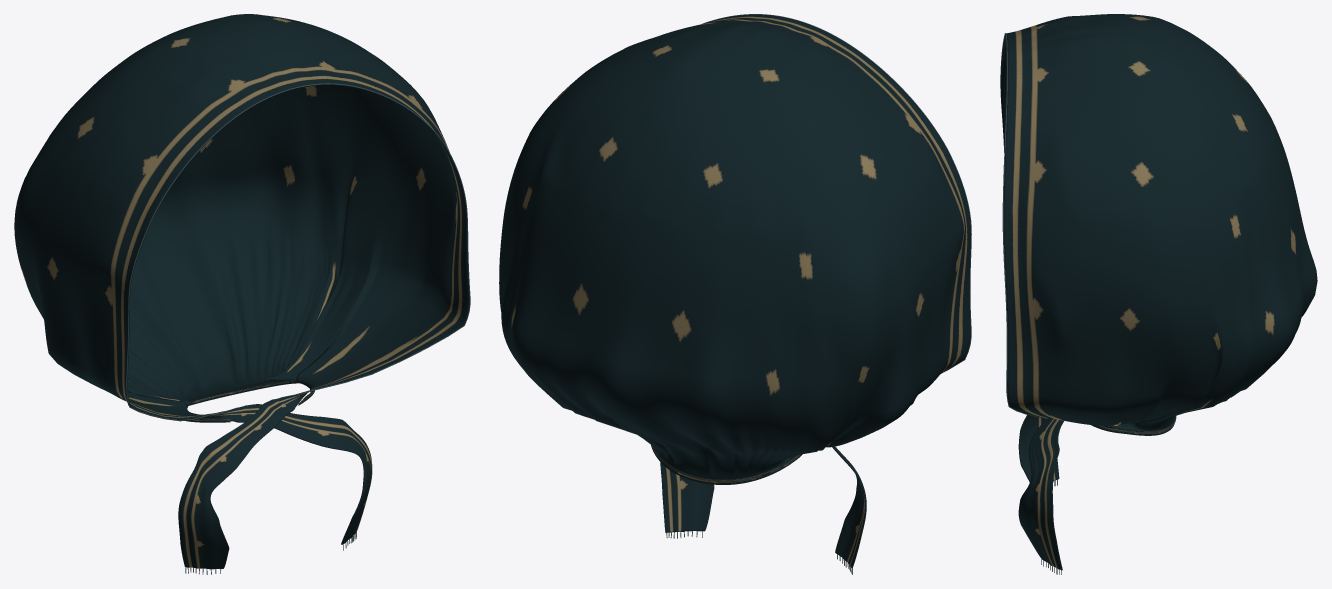
Rendered from Feminine-bob-sweatshirt-pashmina249-headgear.glb.
3 renders of one model, left to right at view 1: azimuth 30°, elevation 25°; view 2: azimuth 150°, elevation 25°; view 3: azimuth 270°, elevation 25°, orthographic. The views are drawn at different scales.
Visible parts, largest first — view 1: 226 headgear / Headwear / continuous woven pashmina239, 226 headgear / Headwear / face edge239; view 2: 226 headgear / Headwear / continuous woven pashmina239, 226 headgear / Headwear / face edge239; view 3: 226 headgear / Headwear / continuous woven pashmina239, 226 headgear / Headwear / face edge239.
Part boxes in pixels (bbox=[...]): 226 headgear / Headwear / continuous woven pashmina239: bbox=[14, 14, 469, 569]; 226 headgear / Headwear / face edge239: bbox=[126, 83, 470, 421]; 226 headgear / Headwear / continuous woven pashmina239: bbox=[499, 14, 970, 568]; 226 headgear / Headwear / face edge239: bbox=[702, 14, 971, 373]; 226 headgear / Headwear / continuous woven pashmina239: bbox=[1000, 14, 1317, 570]; 226 headgear / Headwear / face edge239: bbox=[1000, 33, 1044, 417].
Size of the model in its own units: 1.08 by 1.41 by 0.806.
3 materials, 1 textured.
